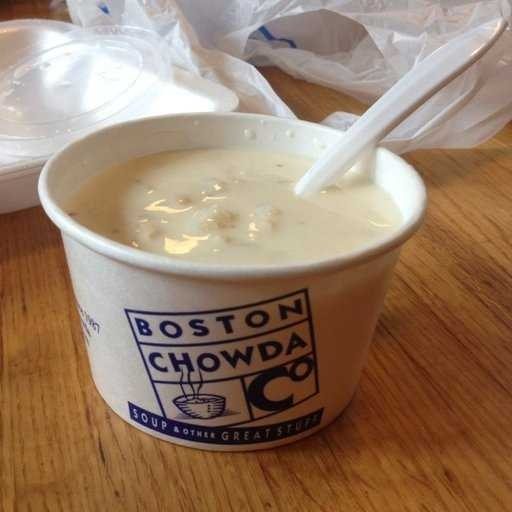soup: (69, 131, 386, 263)
